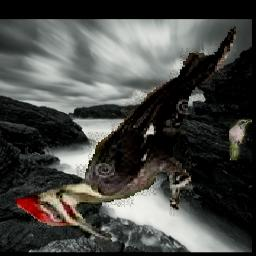Cuckoo: (229, 120, 252, 161)
Woodpecker: (14, 26, 235, 247)
